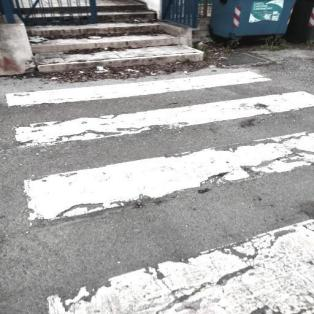Paso de Cebra: (2, 70, 313, 148)
